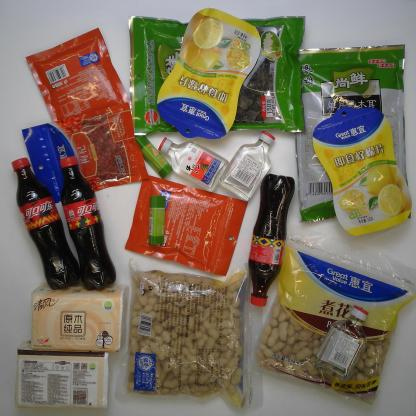Alcohol: (311, 302, 371, 382), (218, 129, 279, 204), (158, 134, 230, 194)
Dried Food: (248, 222, 416, 412), (288, 37, 415, 230), (125, 10, 310, 138), (120, 254, 260, 412)
Dried Fruit: (22, 26, 141, 156), (154, 5, 266, 143), (122, 171, 256, 279), (310, 102, 414, 238), (21, 105, 149, 203)
Drink: (9, 157, 84, 290), (55, 151, 120, 291), (243, 172, 298, 307)
Stationery: (129, 131, 174, 180), (146, 191, 167, 248)
Tissue: (27, 276, 131, 356), (13, 334, 112, 411)
